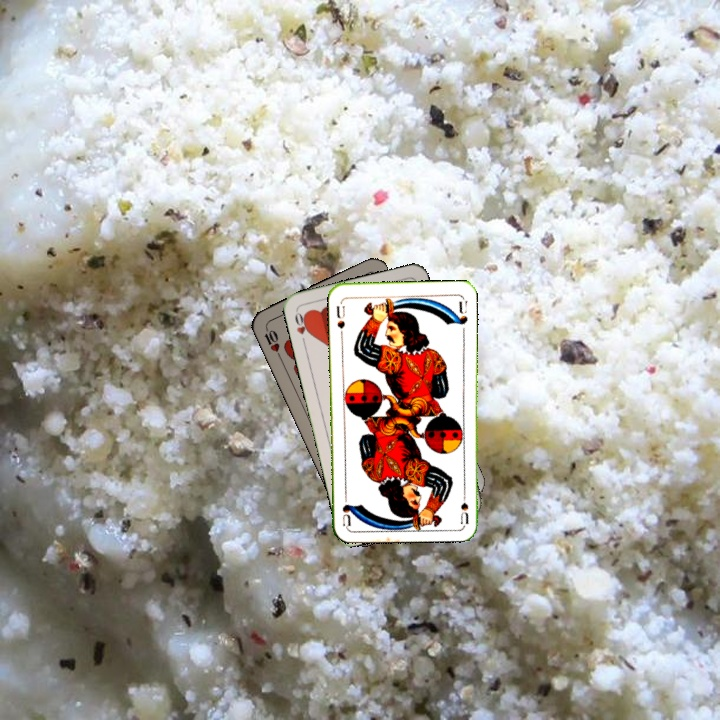H10: (260, 323, 284, 361)
HO: (291, 307, 313, 347)
SU: (456, 484, 471, 525), (333, 302, 347, 331)
